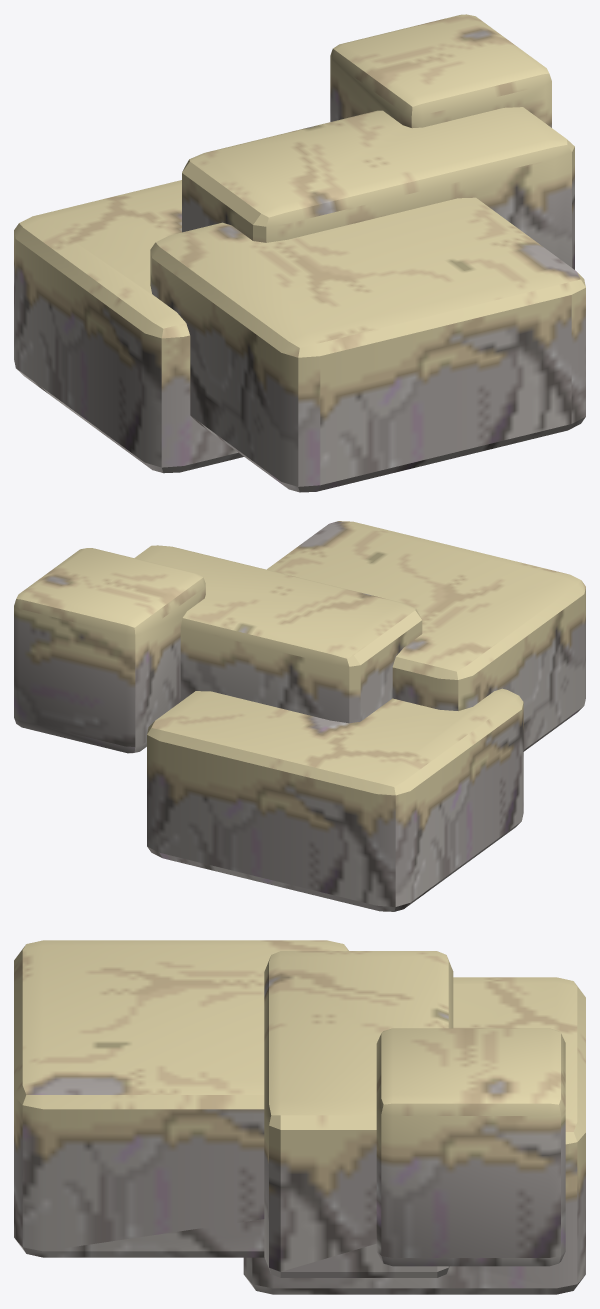
The model's file is rock2.fbx.
3 views of the same model, one above another, from view 1: azimuth 30°, elevation 25°; view 2: azimuth 150°, elevation 25°; view 3: azimuth 270°, elevation 25° (orthographic). The views are drawn at different scales.
Visible parts, largest first — view 1: 立方体.265; view 2: 立方体.265; view 3: 立方体.265.
Boxes of the visible parts, bbox=[...] form: 立方体.265: bbox=[14, 14, 585, 492]; 立方体.265: bbox=[14, 521, 585, 911]; 立方体.265: bbox=[14, 940, 585, 1294].
Size of the model in its own units: 209 by 113 by 204.
